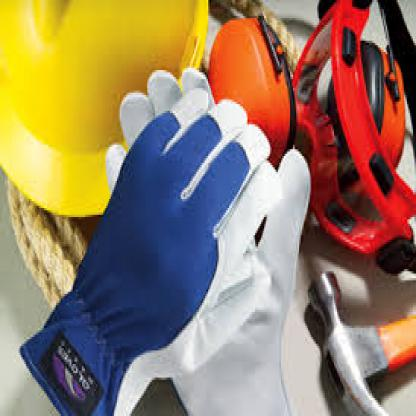with_gloves: (18, 88, 272, 414), (105, 68, 314, 414)
